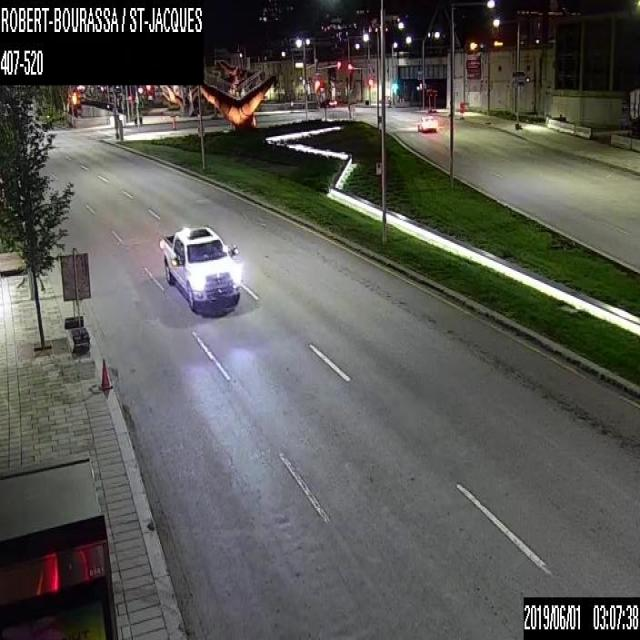construction: (100, 356, 111, 389), (458, 101, 464, 119)
vehicle: (158, 221, 240, 315), (418, 114, 438, 130)
